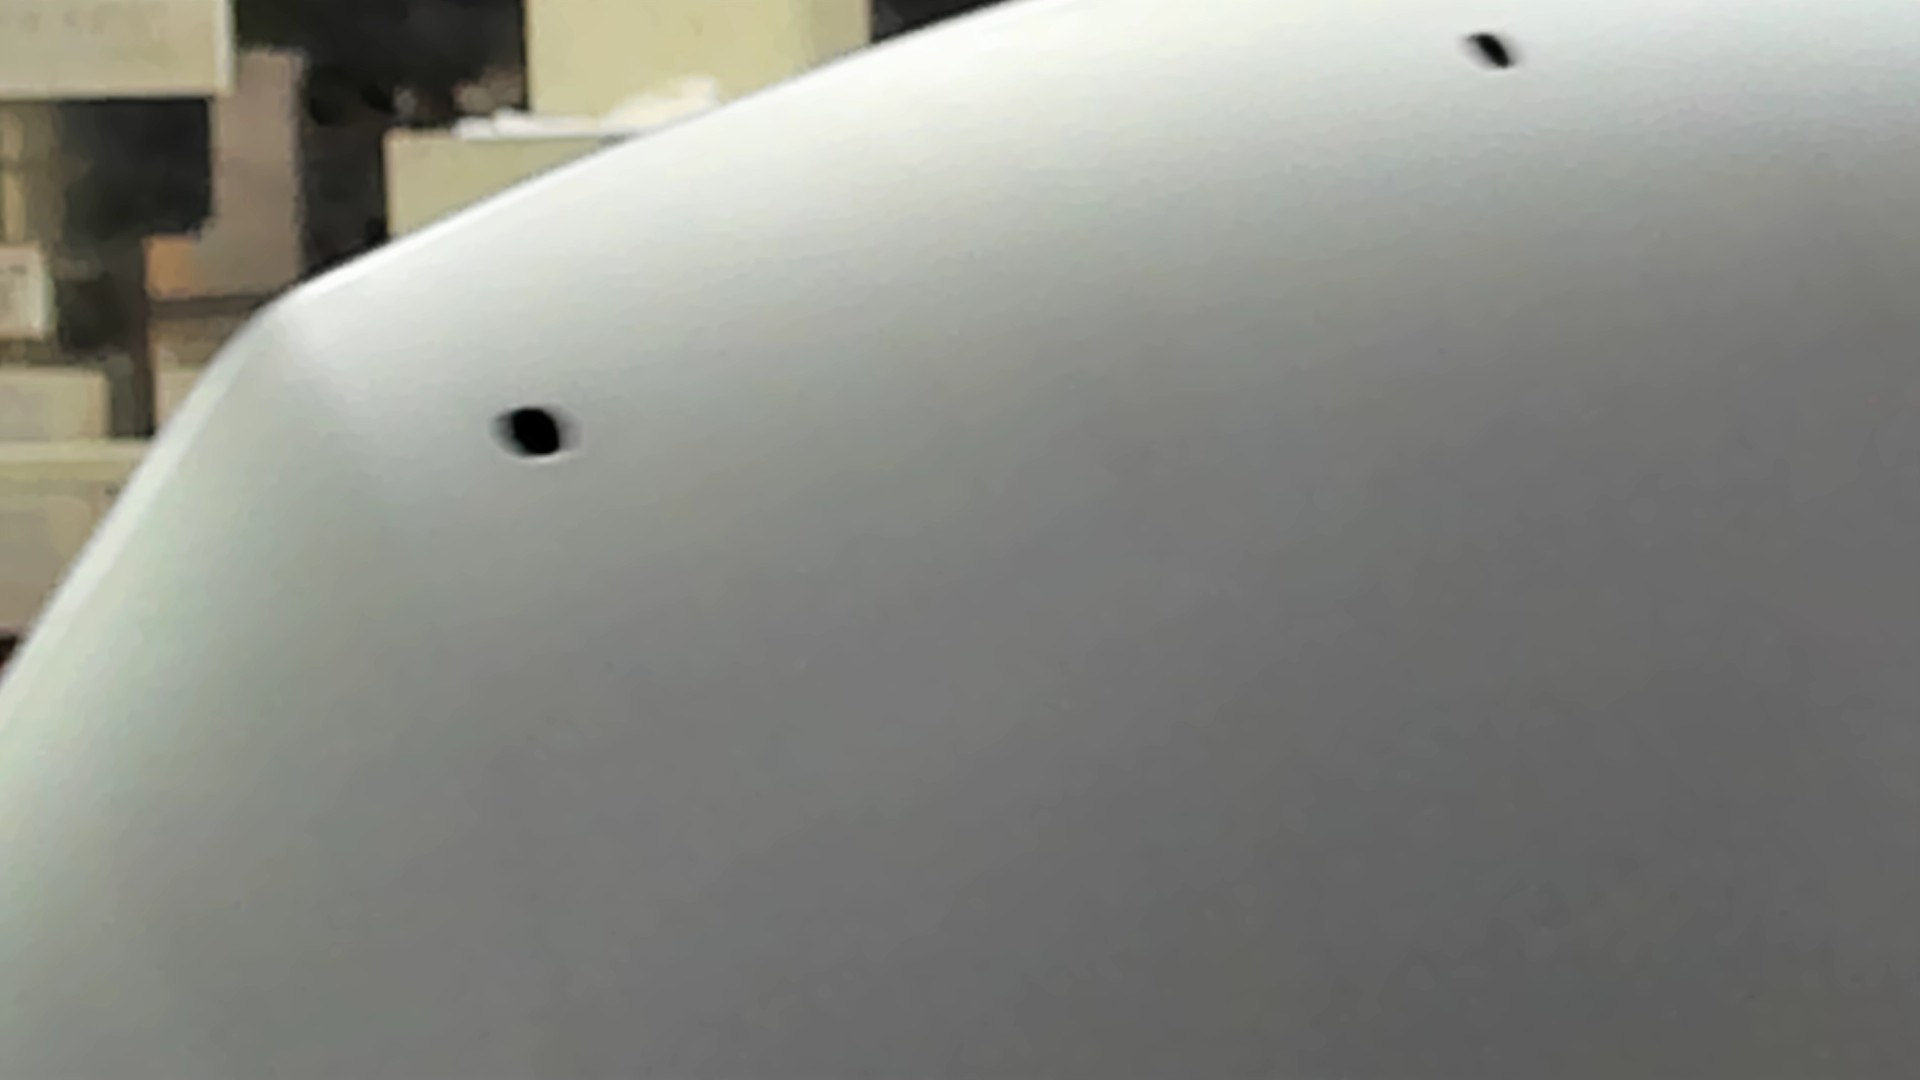amorfo: (484, 397, 593, 460), (1455, 26, 1524, 76)
